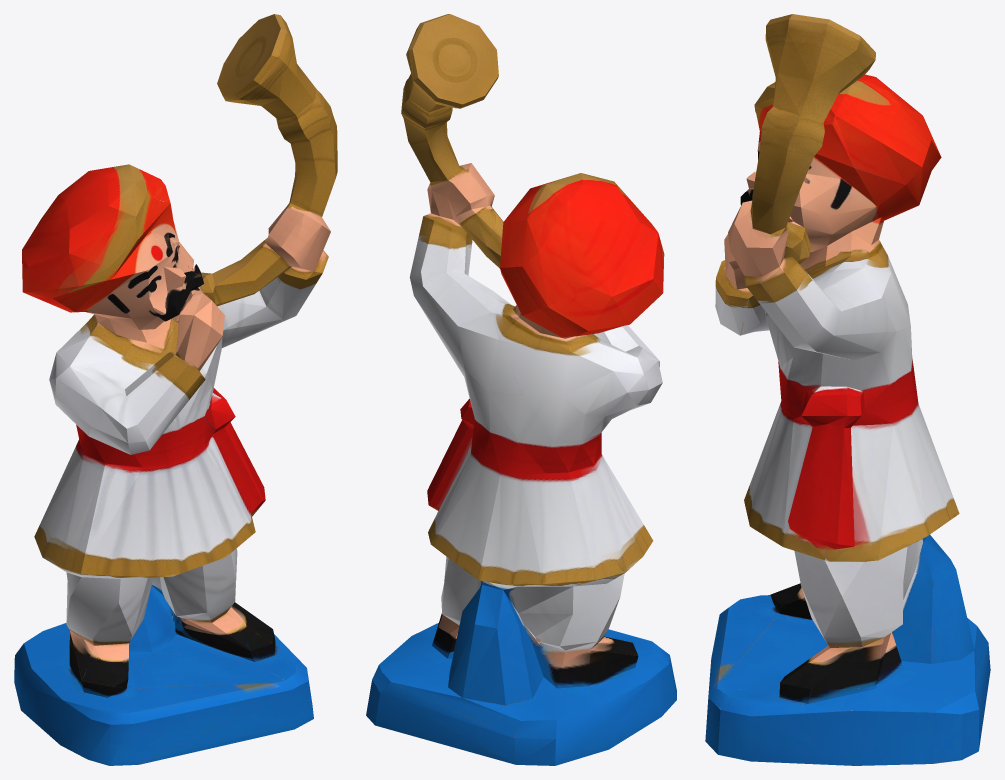
The model's file is Horn Blower.glb.
3 views of the same model, side by side, from view 1: azimuth 30°, elevation 25°; view 2: azimuth 150°, elevation 25°; view 3: azimuth 270°, elevation 25° (orthographic). The views are drawn at different scales.
Parts seen in each view (by area): view 1: mesh_000; view 2: mesh_000; view 3: mesh_000.
Part boxes in pixels (x1,y1,x2,y2): mesh_000: [14, 14, 337, 765]; mesh_000: [366, 14, 676, 765]; mesh_000: [705, 14, 990, 765].
Bounding box in the file's own units: 0.4282 × 0.9521 × 0.332.
1 material, 1 textured.
